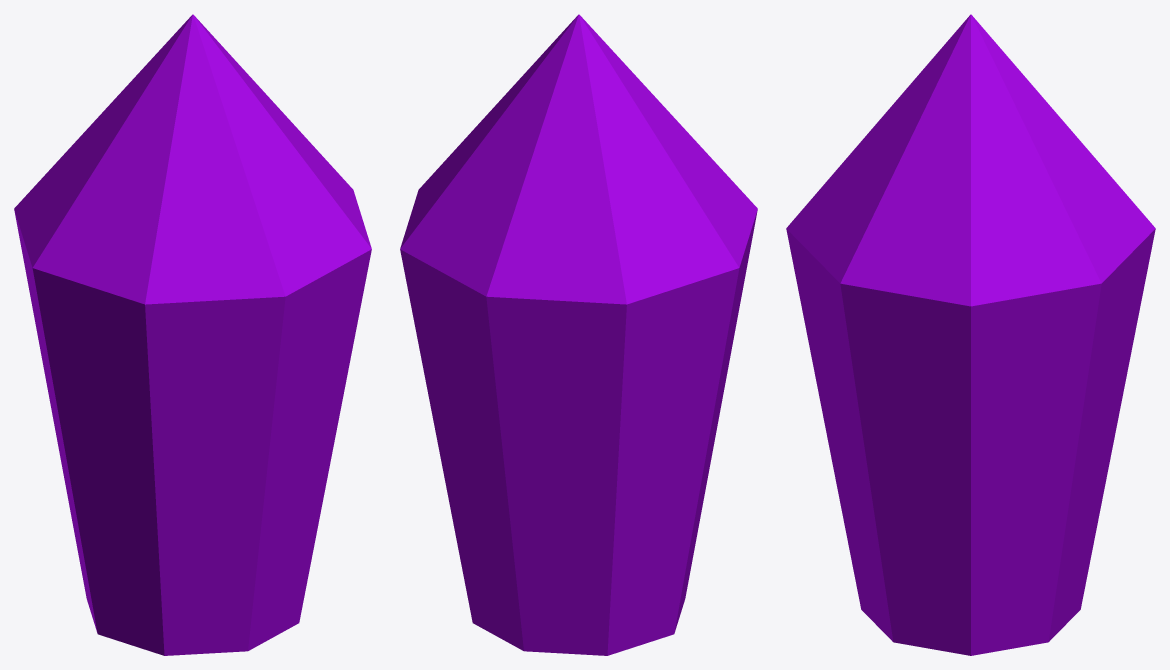
Rendered from Cristal D.fbx.
3 views of the same model, side by side, from view 1: azimuth 30°, elevation 25°; view 2: azimuth 150°, elevation 25°; view 3: azimuth 270°, elevation 25° (orthographic).
Parts seen in each view (by area): view 1: Cylinder.003; view 2: Cylinder.003; view 3: Cylinder.003.
Part boxes in pixels (x1,y1,x2,y2): Cylinder.003: [14, 14, 371, 655]; Cylinder.003: [400, 14, 757, 655]; Cylinder.003: [786, 14, 1155, 655].
Bounding box in the file's own units: 21.23 × 37.74 × 21.23.
